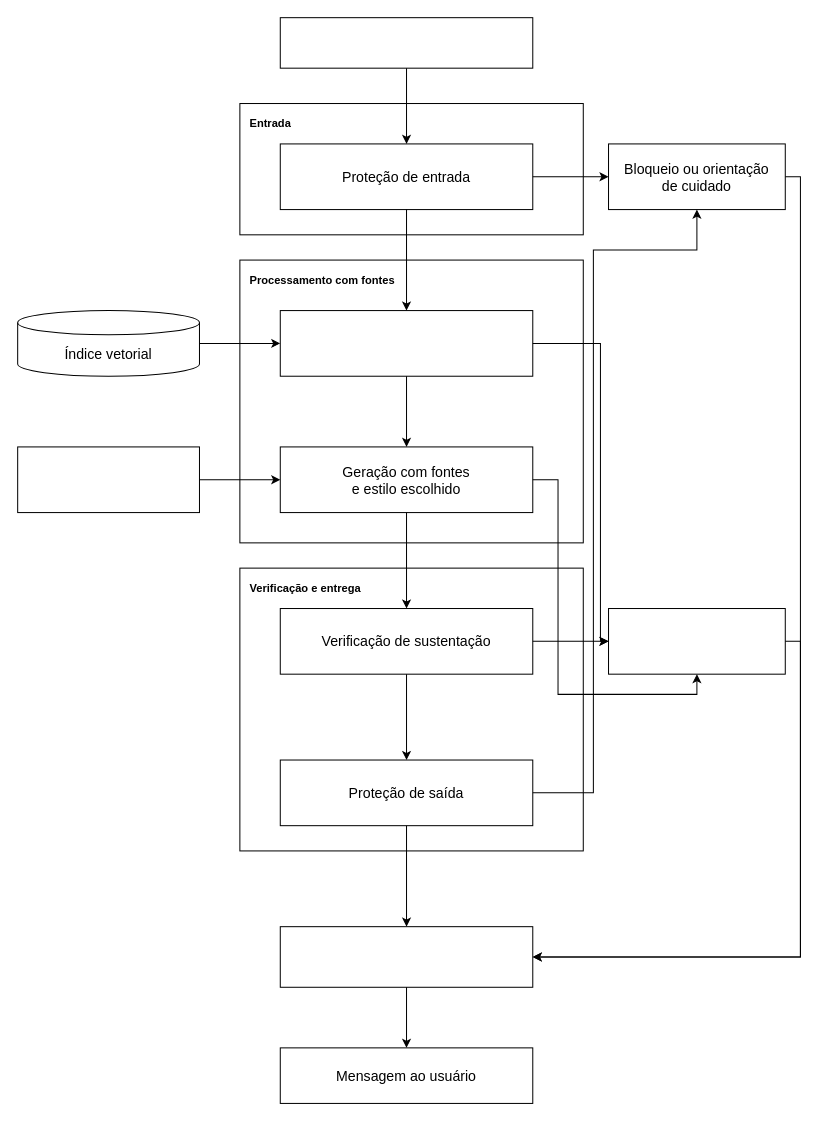
Some shapes in this 826 by 1121 pixel diagram are drawn without their labels. Here are the shapes that lost their labels. From the top down, the centre of each, then its label:
At point (406, 42): "Pergunta + chat escolhido".
At point (406, 343): "Recuperação no acervo do chat".
At point (108, 479): "Direto / Passo a passo".
At point (696, 641): "Informar insuficiência de apoio".
At point (406, 956): "Persistência do registro".
